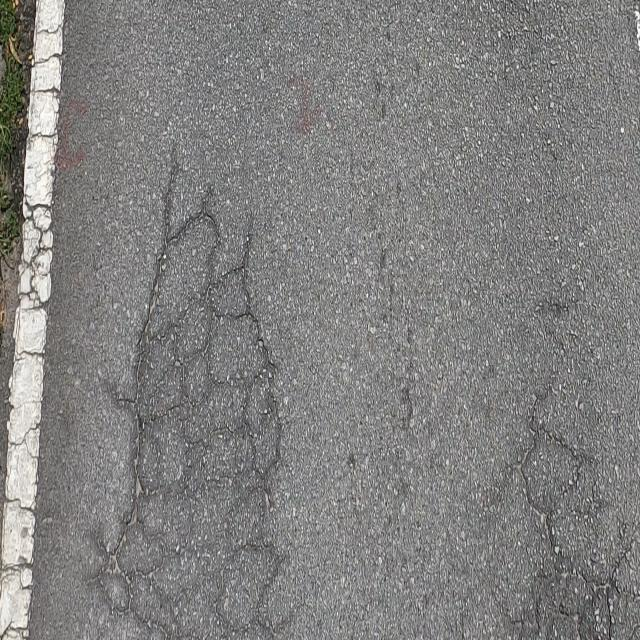Retak-Buaya: (89, 133, 285, 637), (503, 376, 640, 640)
